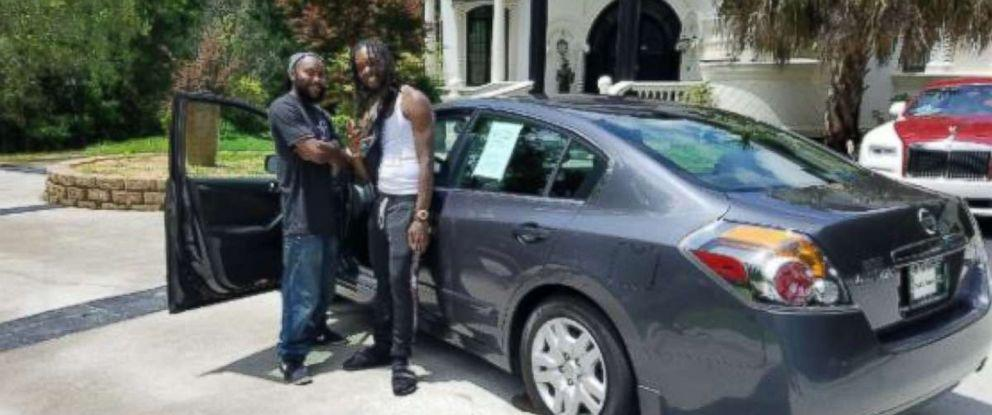car: (124, 33, 991, 413)
